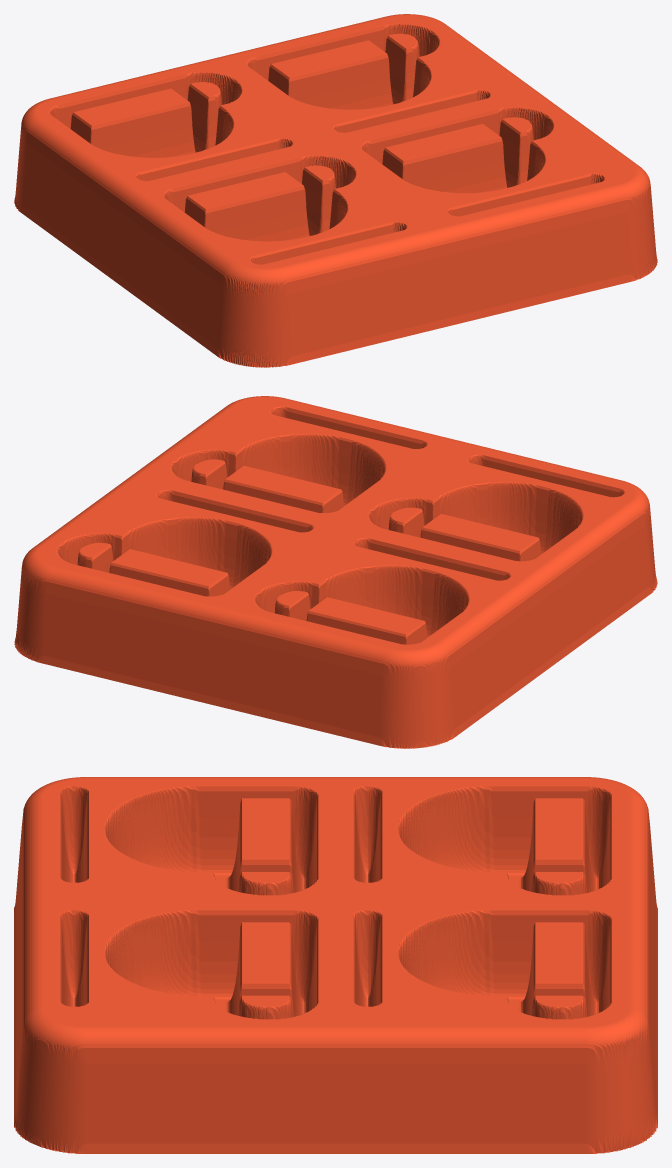
File: mold.glb
3 renders of one model, top to bottom at view 1: azimuth 30°, elevation 25°; view 2: azimuth 150°, elevation 25°; view 3: azimuth 270°, elevation 25°, orthographic. The views are drawn at different scales.
Parts seen in each view (by area): view 1: geometry_0; view 2: geometry_0; view 3: geometry_0.
Boxes of the visible parts, x1,y1,x2,y2 form: geometry_0: (14, 14, 657, 367); geometry_0: (14, 396, 657, 748); geometry_0: (14, 777, 657, 1153).
Bounding box in the file's own units: 0.0808 × 0.0159 × 0.0808.
